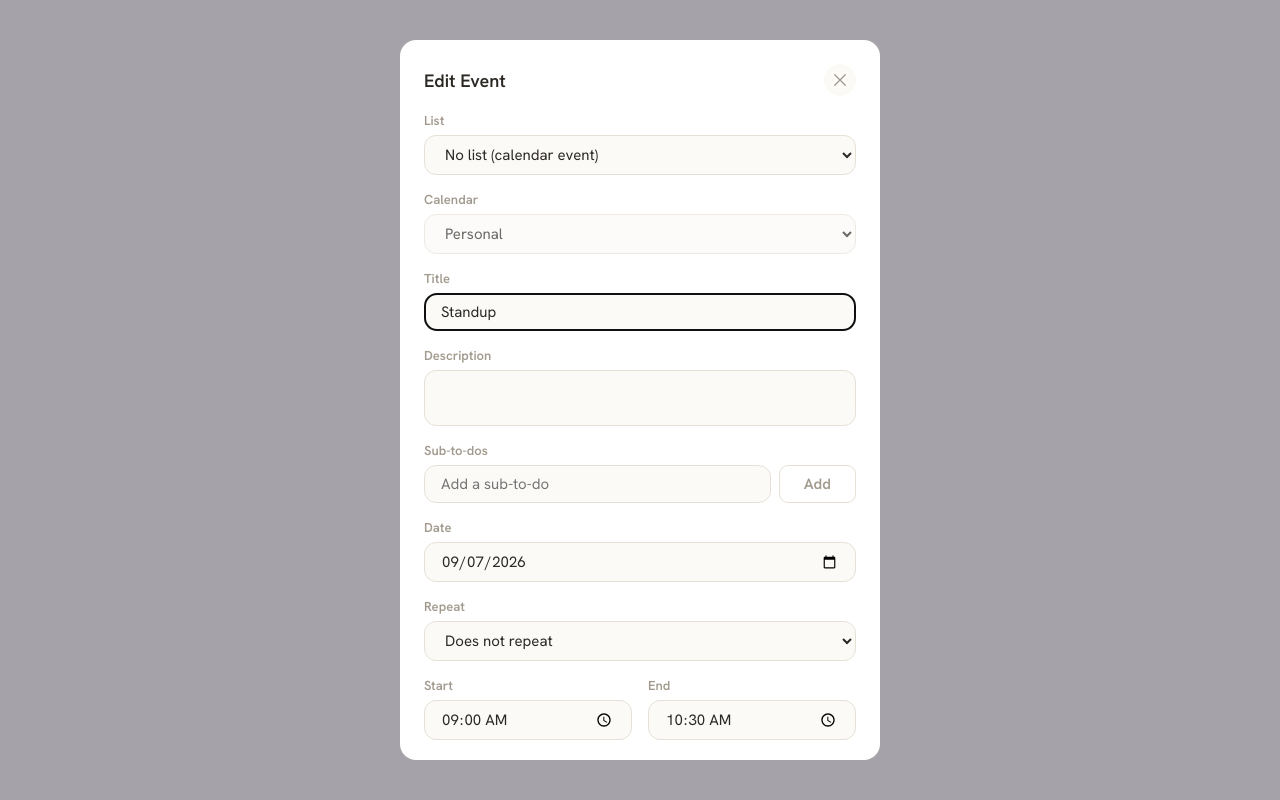
Test: PlanItemModal › carries the end time along when the start moves
The width and height of the screenshot is (1280, 800).
Replace the text in the time field labelled "Start" with "14:00": (528, 720) [424,700,632,740]
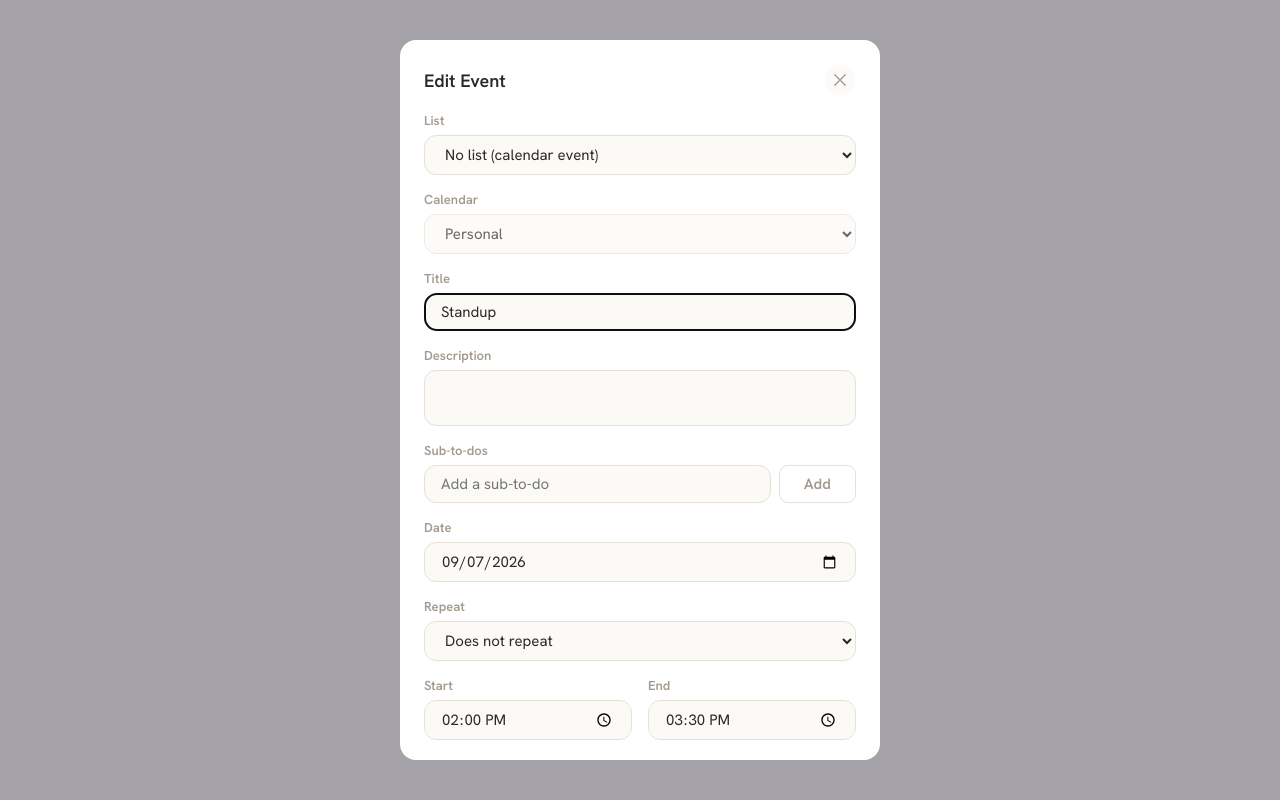
Now the time field labelled "End" holds "15:30", box [648,700,856,740]
